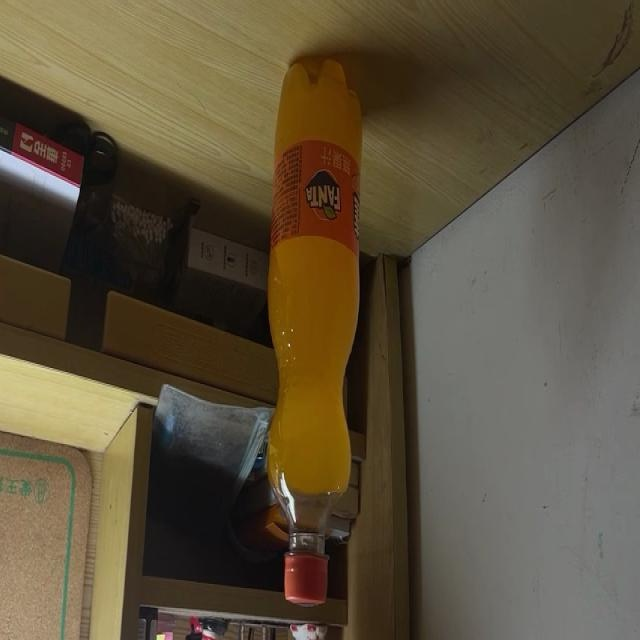Fanta: (266, 47, 361, 607)
